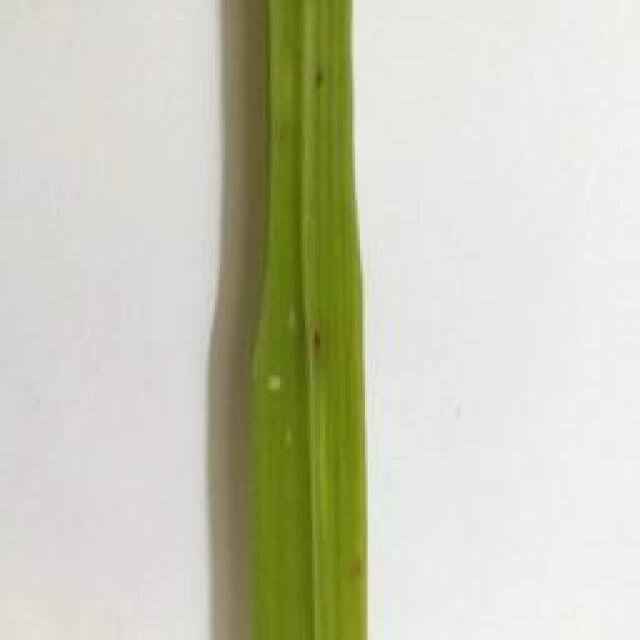Brown_Spot: (300, 300, 338, 383), (334, 540, 376, 590), (298, 55, 338, 105)
